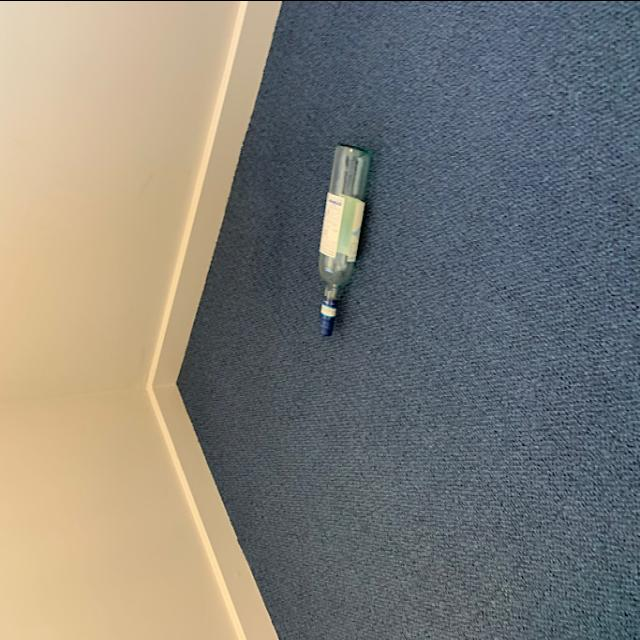litter: (311, 133, 381, 335)
